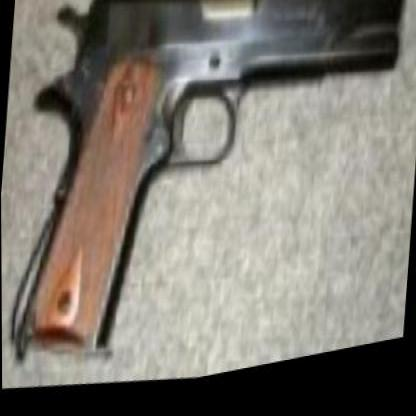pistol: (0, 0, 407, 405)
